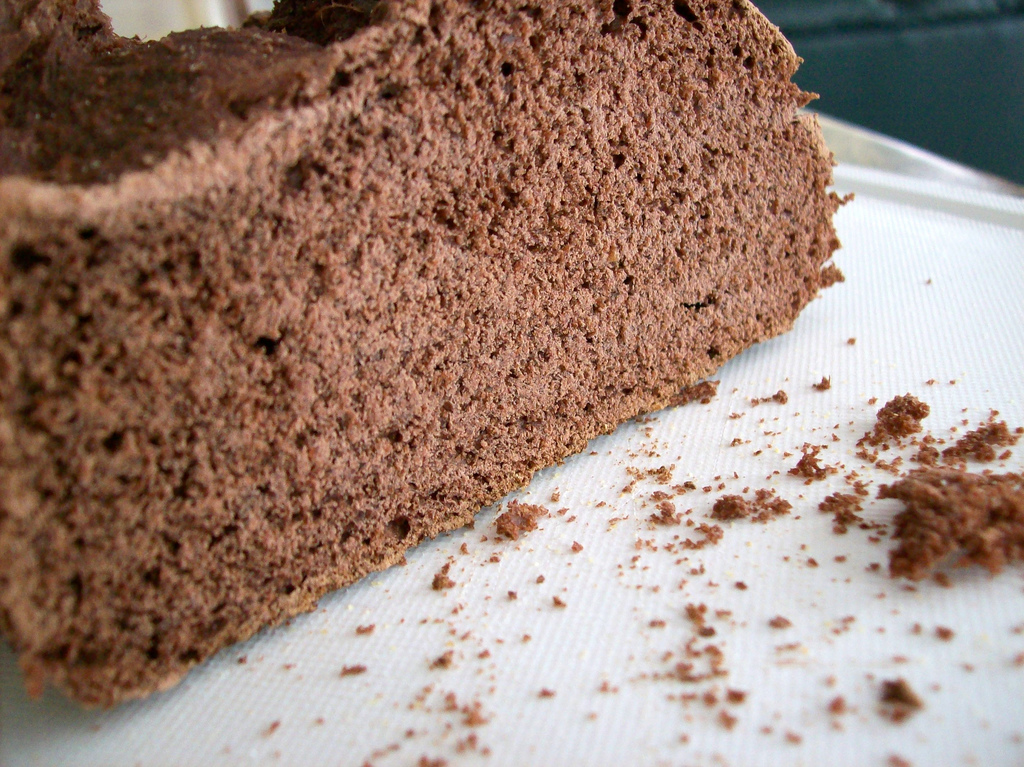slice of bread: (17, 139, 873, 429)
